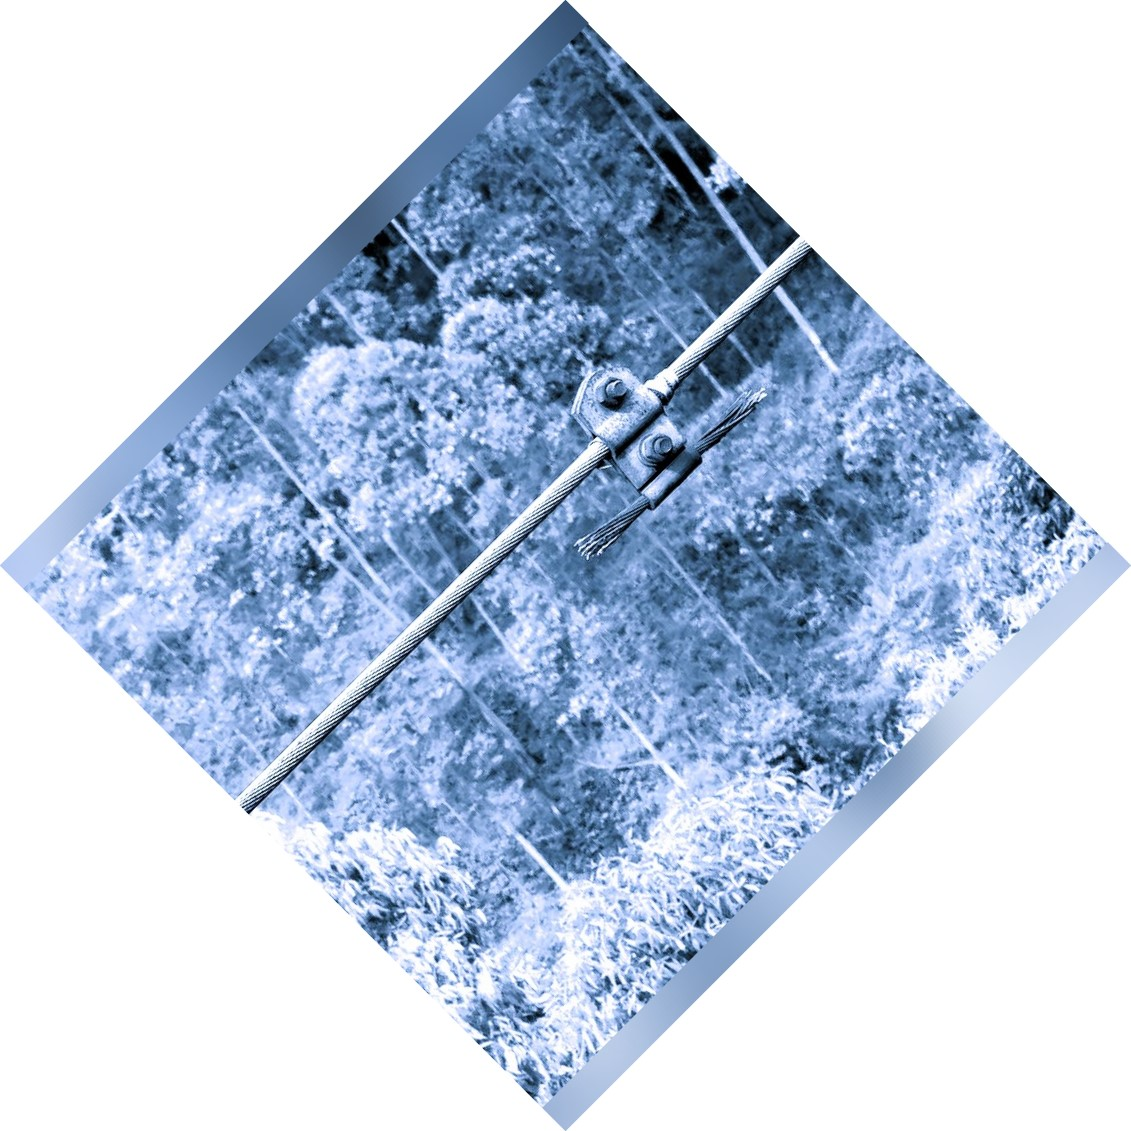Damage of shockproof hammer: (525, 349, 784, 574)
